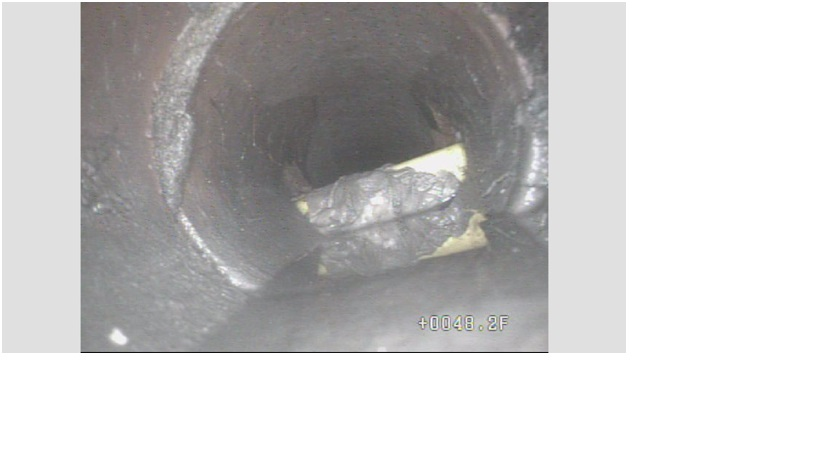cb: (256, 137, 489, 237), (283, 221, 524, 283)
